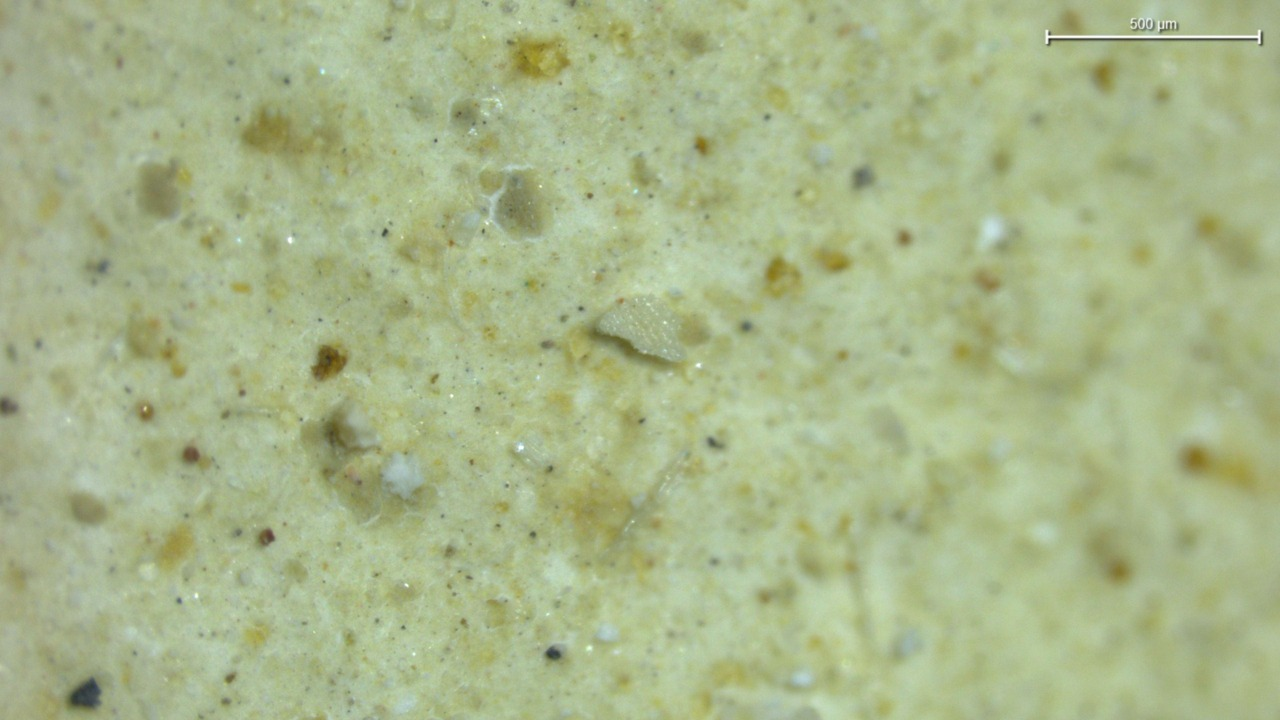microplastic_fragment: (597, 297, 684, 362)
